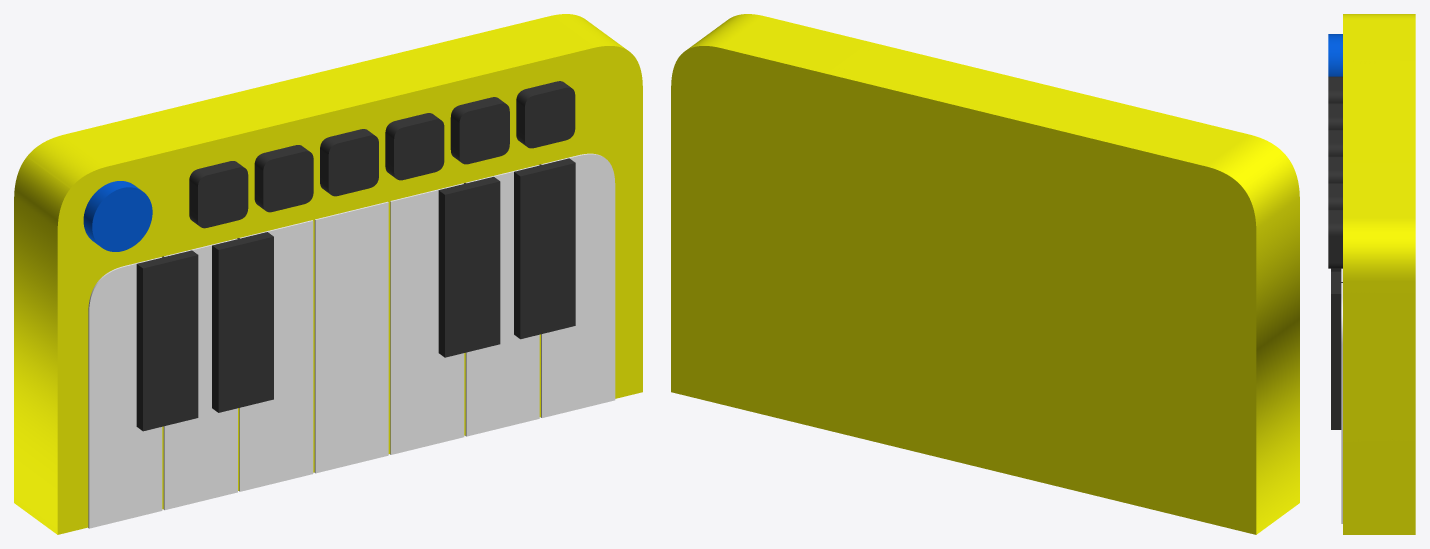
Rendered from PianoColors.gltf.
The picture shows the model from 3 angles, left to right: view 1: azimuth 30°, elevation 25°; view 2: azimuth 150°, elevation 25°; view 3: azimuth 270°, elevation 25°; orthographic projection. The views are drawn at different scales.
Parts seen in each view (by area): view 1: Piano Frame, Rectangle 7.001, Rectangle 8, Rectangle 2.001, Rectangle 6.001, Rectangle 12, Rectangle 3.001, Rectangle 9, Rectangle 11, Rectangle 5.001, Rectangle 4.001, Rectangle 10 (+7 smaller); view 2: Piano Frame; view 3: Piano Frame, Rectangle 11, Rectangle 7, Slider, Rectangle 12, Rectangle 2, Rectangle 5, Rectangle 3, Rectangle 4, Rectangle 6.
Part boxes in pixels (x1,y1,x2,y2): Piano Frame: (14, 14, 642, 534); Rectangle 7.001: (314, 201, 388, 473); Rectangle 8: (390, 183, 464, 454); Rectangle 2.001: (88, 257, 162, 528); Rectangle 6.001: (239, 220, 313, 491); Rectangle 12: (541, 153, 615, 417); Rectangle 3.001: (136, 250, 198, 431); Rectangle 9: (438, 176, 500, 357); Rectangle 11: (514, 158, 575, 339); Rectangle 5.001: (212, 232, 273, 412); Rectangle 4.001: (163, 238, 237, 510); Rectangle 10: (465, 165, 539, 436); Piano Frame: (671, 14, 1299, 534); Piano Frame: (1343, 14, 1415, 534); Rectangle 11: (1331, 271, 1342, 429); Rectangle 7: (1328, 209, 1342, 268); Slider: (1328, 34, 1342, 76); Rectangle 12: (1341, 283, 1342, 523); Rectangle 2: (1328, 76, 1342, 103); Rectangle 5: (1328, 156, 1342, 183); Rectangle 3: (1328, 103, 1342, 129); Rectangle 4: (1328, 130, 1342, 156); Rectangle 6: (1328, 183, 1342, 209).
Bounding box in the file's own units: 1.16 × 0.6778 × 0.18.
